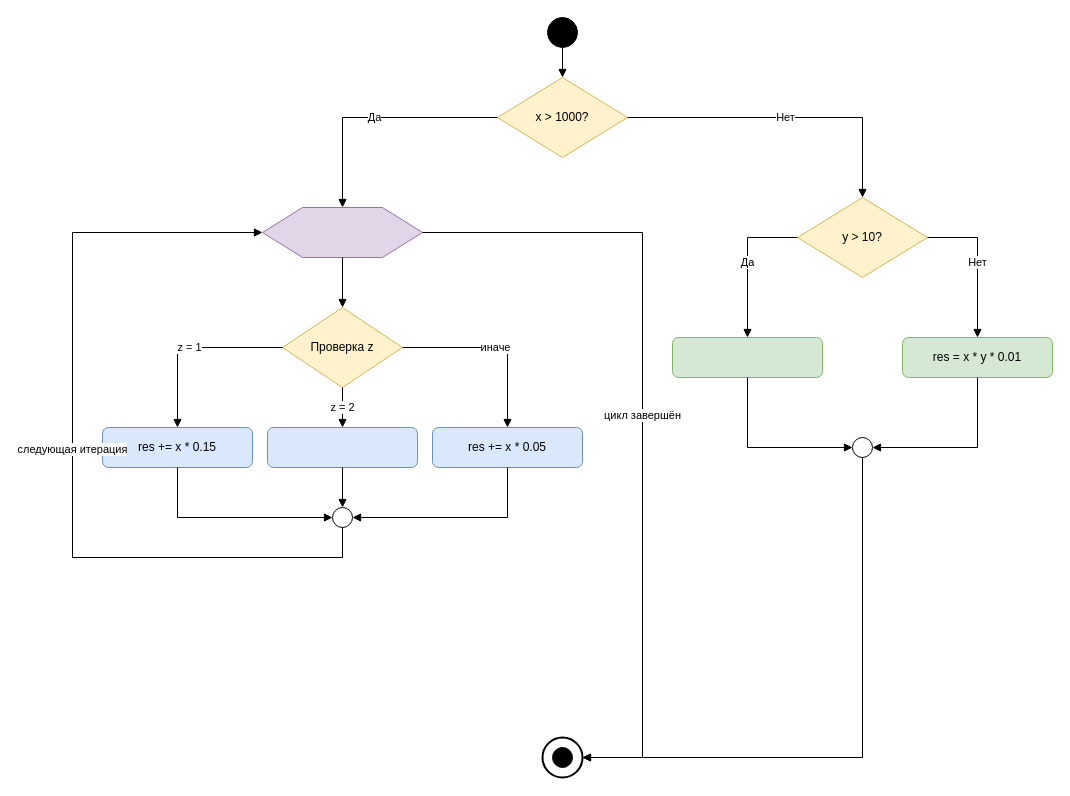
Some shapes in this 1070 by 796 pixel diagram are drawn without their labels. The shapes that lost their labels are listed below. From the top down, each one's centre as x and y in pixels, then its label:
At (342,232): "for i in range(y)".
At (747,357): "res = x * y * 0.02".
At (342,447): "res += x * 0.10".
